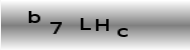7: (48, 21, 64, 35)
H: (94, 18, 110, 32)
L: (79, 17, 92, 31)
b: (27, 10, 41, 24)
c: (116, 26, 128, 38)
